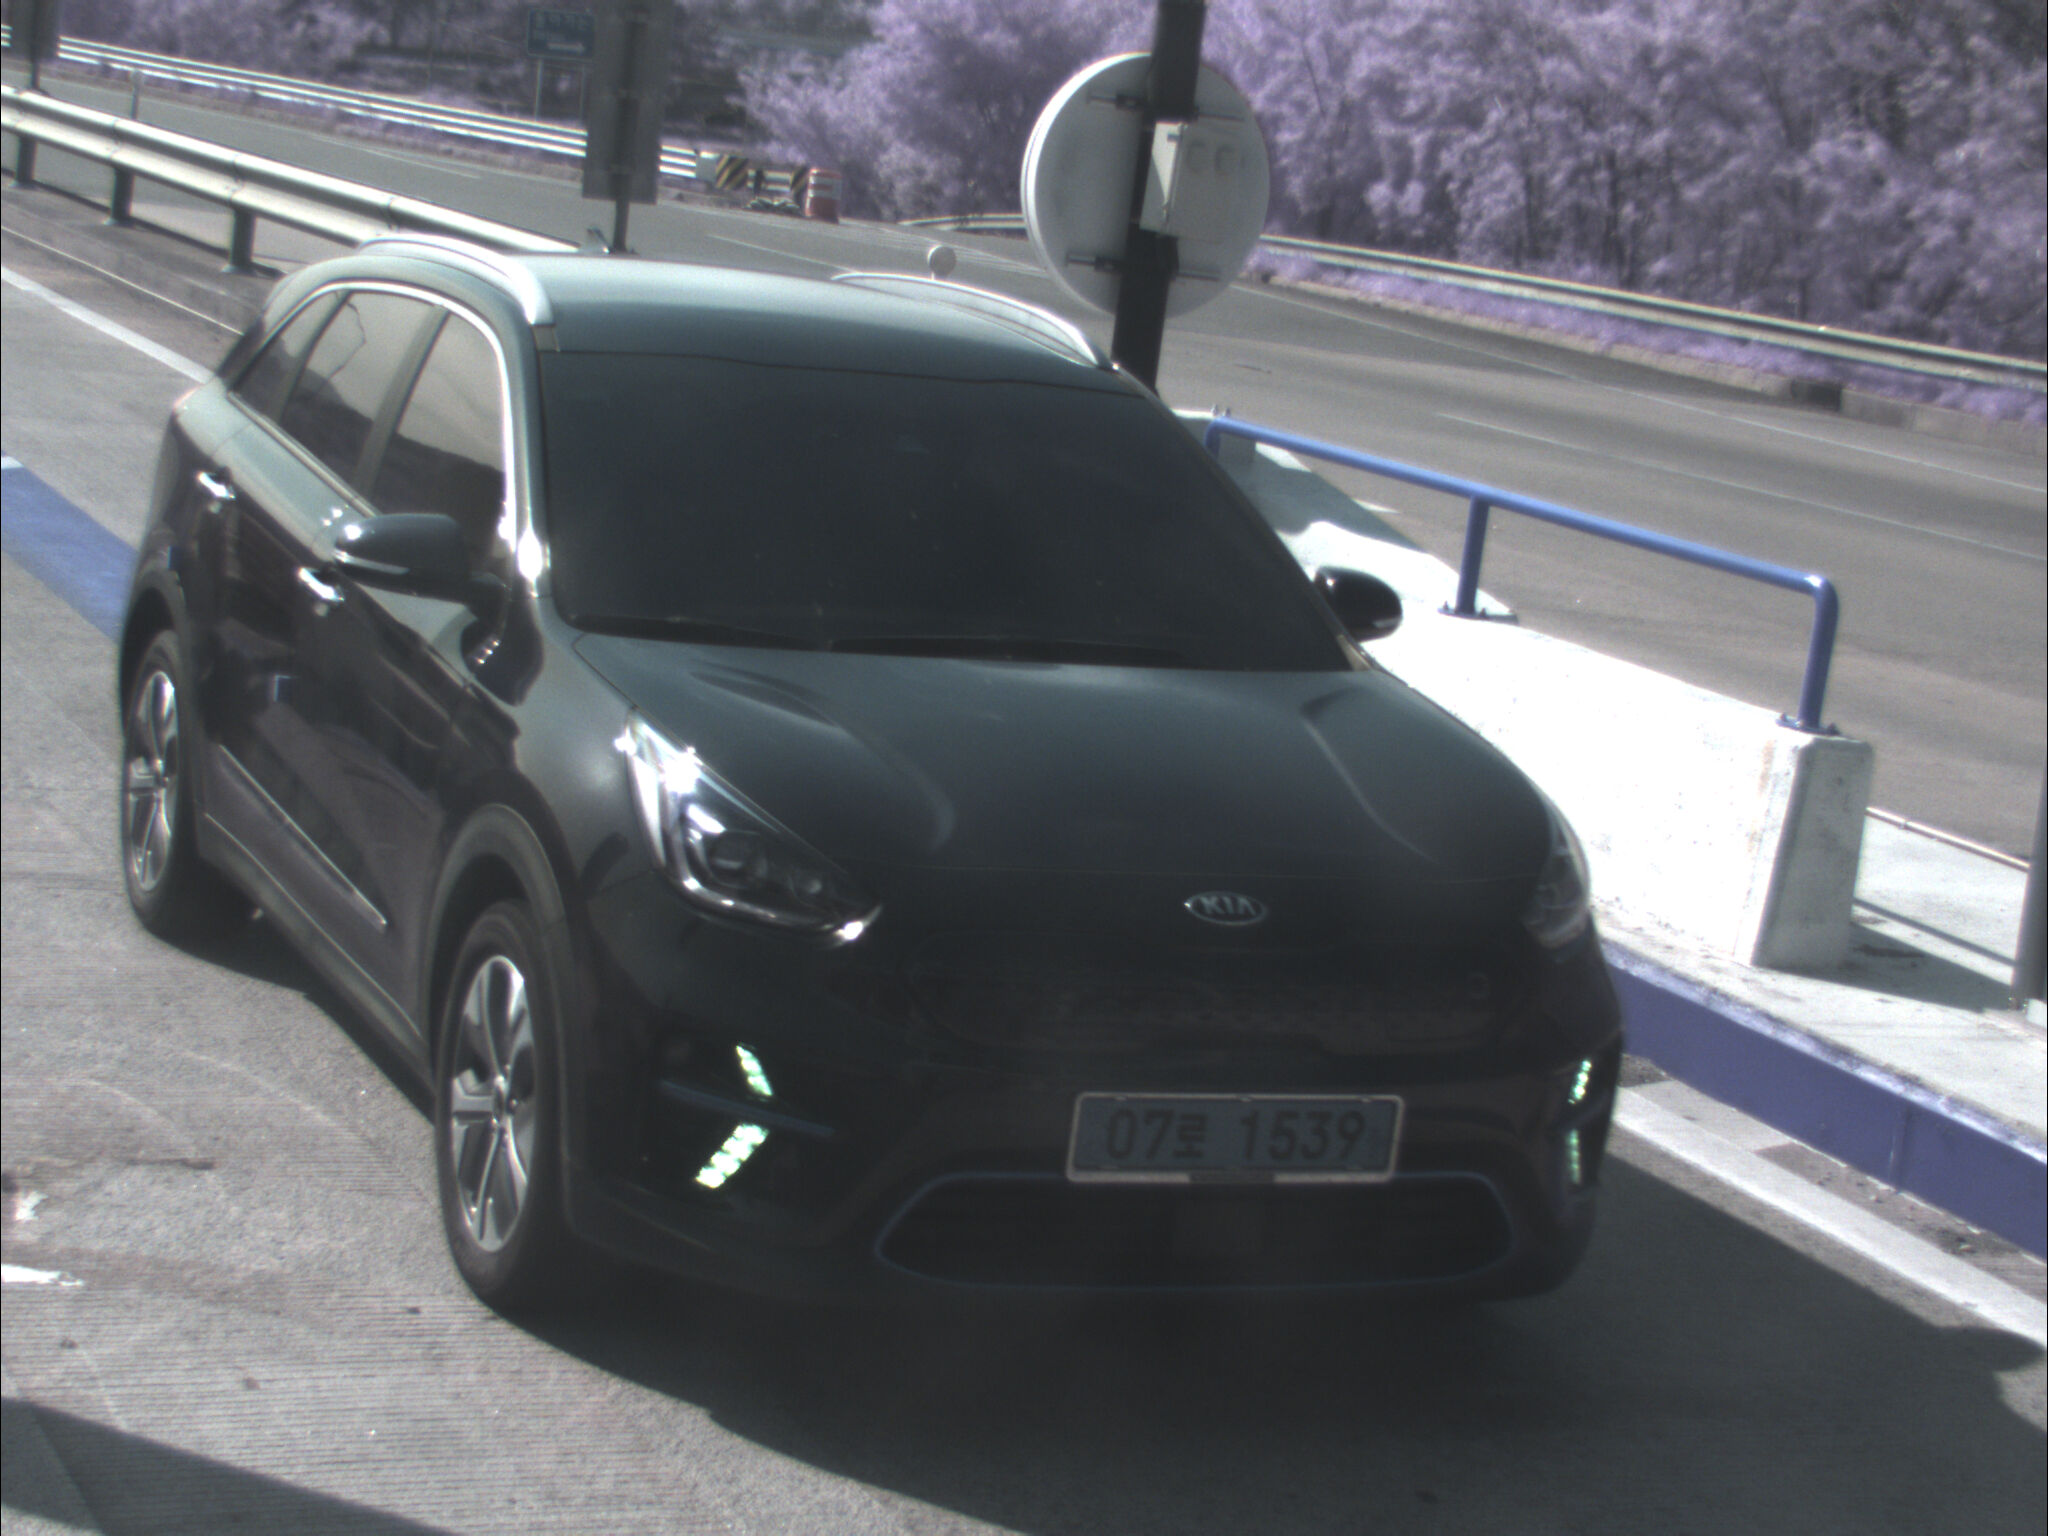car: (106, 221, 1636, 1357)
plate: (1063, 1085, 1408, 1192)
